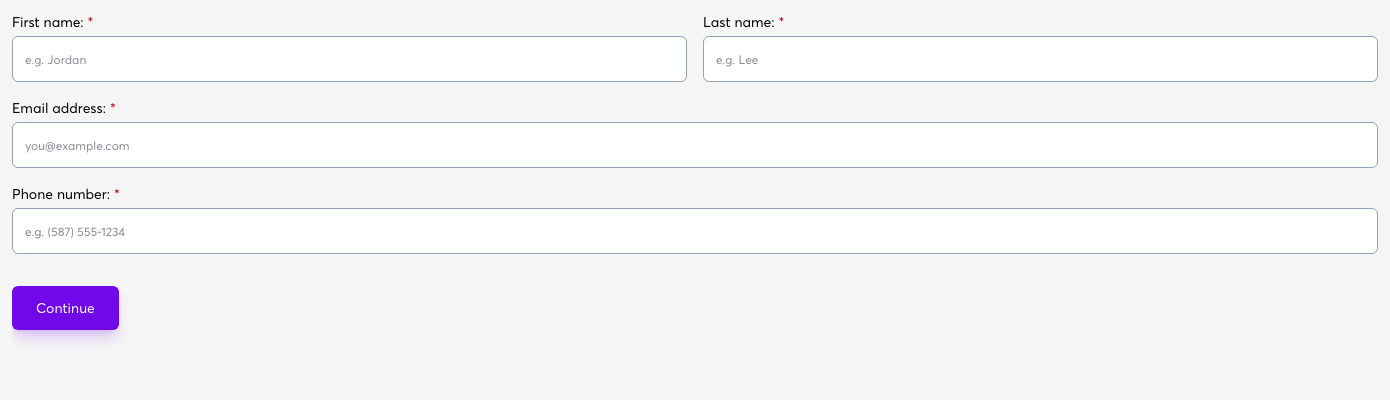
refuses digits in a name and extra phone digits before requesting a code
This screenshot has width=1390, height=400.
Type "John123" into the field named "firstname" at [350, 59], box [12, 36, 687, 82]
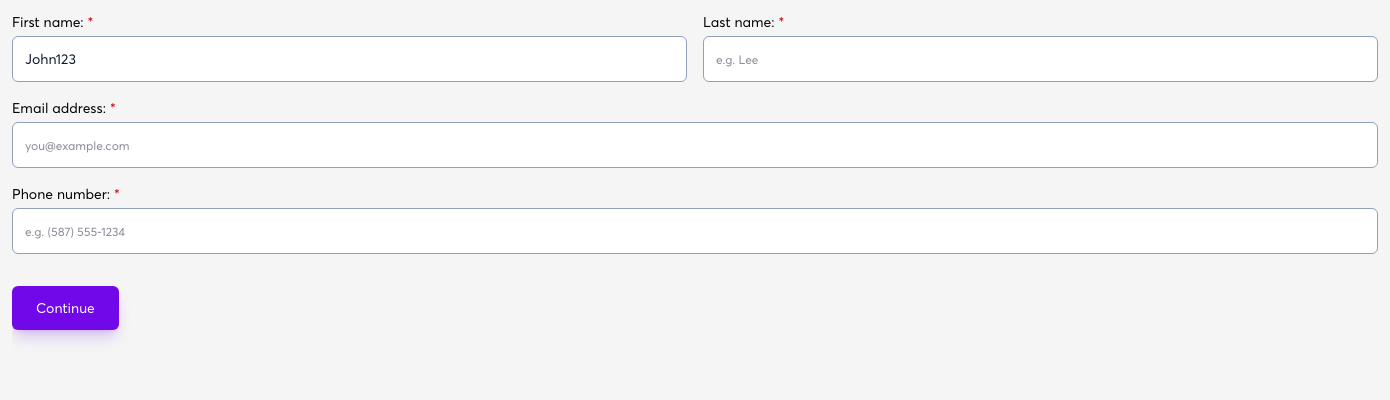
Type "Lovelace" into the field labelled "Last name:" at [1040, 59], box [703, 36, 1378, 82]
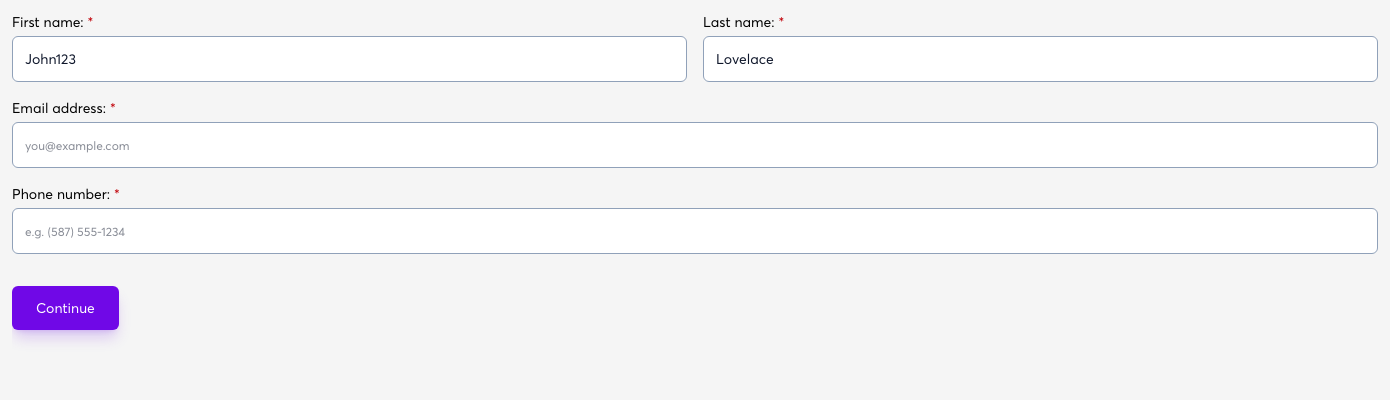
Type "ada@example.com" into the field named "emailAddress" at [695, 145], box [12, 122, 1378, 168]
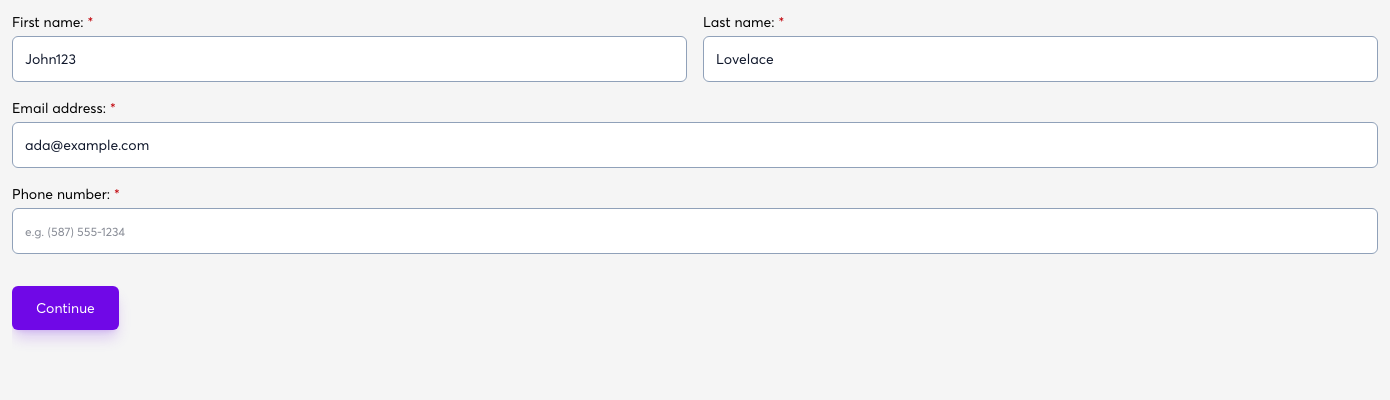
Type "5875551234" into the field named "phoneNumber" at [695, 231], box [12, 208, 1378, 254]
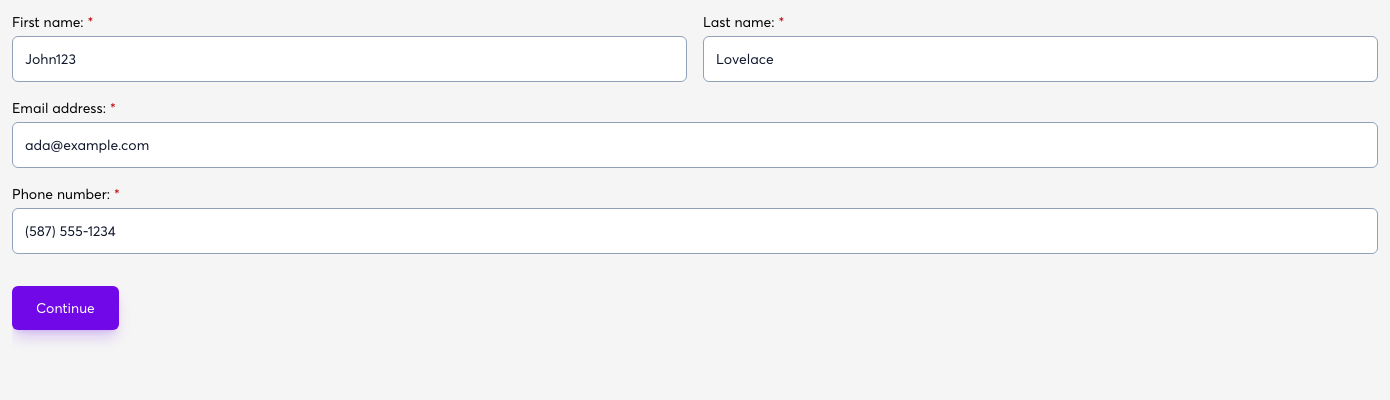
Replace the text in the field named "phoneNumber" with "58755512345" at [695, 231], box [12, 208, 1378, 254]
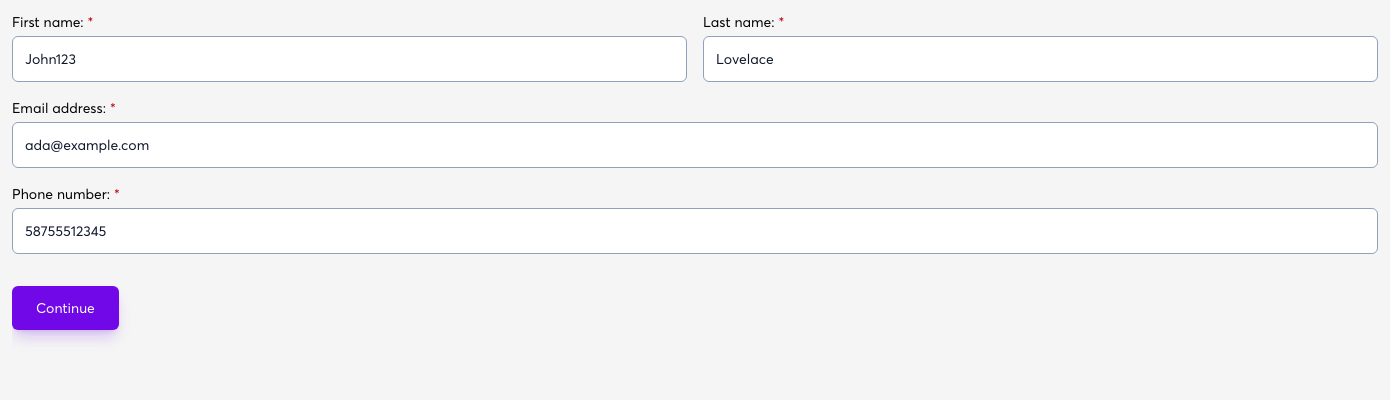
Click the button "Continue" at [65, 308], box [12, 286, 119, 330]
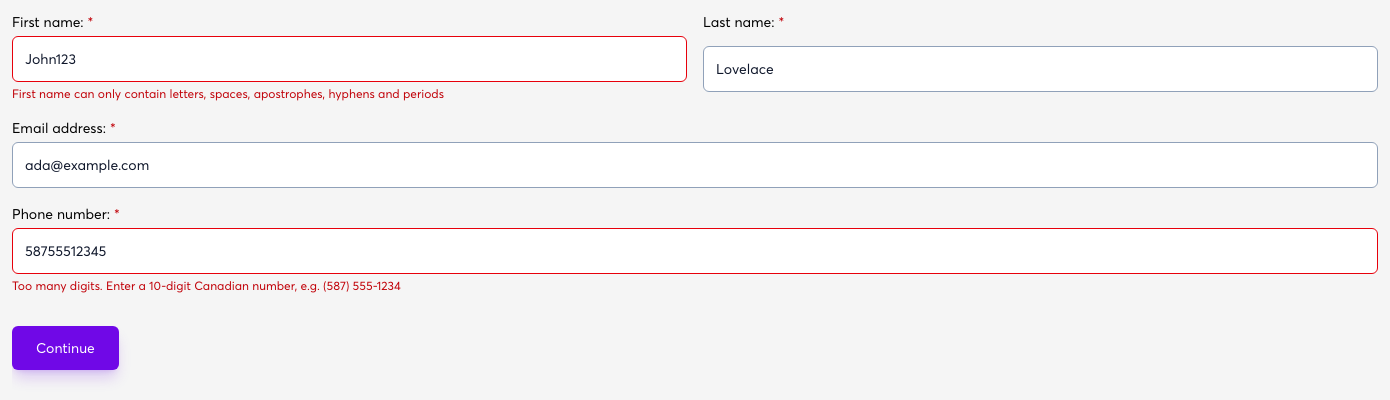
Now the text "First name can only contain letters, spaces, apostrophes, hyphens and periods" is shown, box [12, 86, 444, 101]
Now the text "Too many digits. Enter a 10-digit Canadian number, e.g. (587) 555-1234" is shown, box [12, 278, 401, 293]
